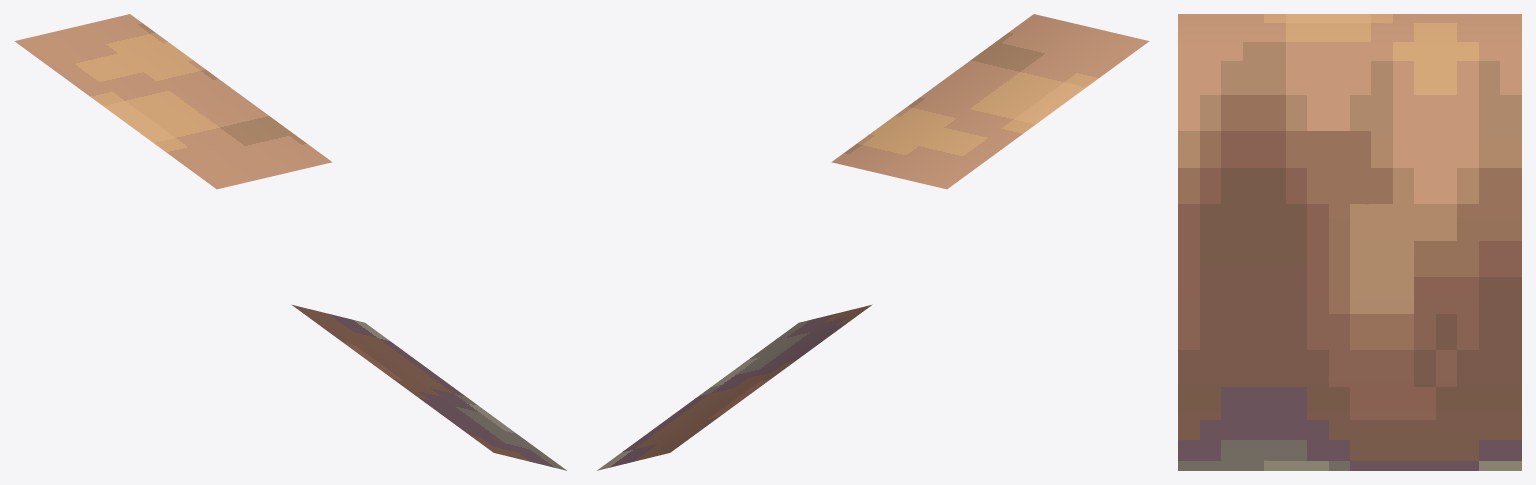
The picture shows the model from 3 angles, left to right: view 1: azimuth 30°, elevation 25°; view 2: azimuth 150°, elevation 25°; view 3: azimuth 270°, elevation 25°; orthographic projection. The views are drawn at different scales.
Bounding box in the file's own units: 1 × 1 × 1.
1 material, 1 textured.
